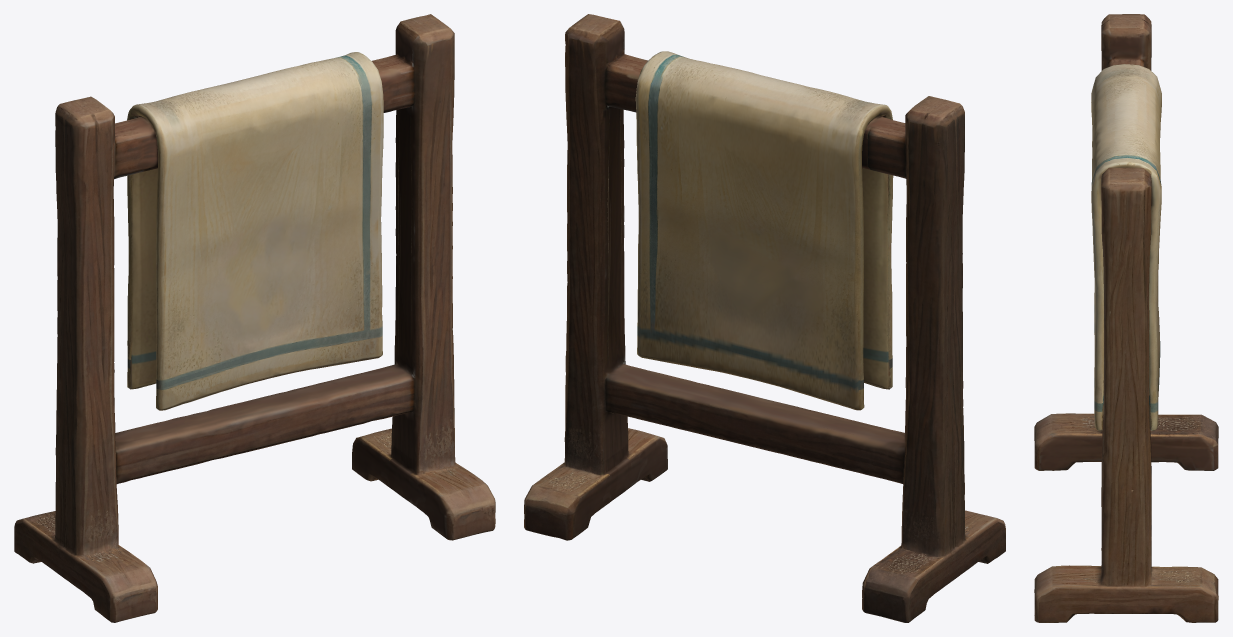
File: Furn_TowelRail.fbx
3 views of the same model, side by side, from view 1: azimuth 30°, elevation 25°; view 2: azimuth 150°, elevation 25°; view 3: azimuth 270°, elevation 25° (orthographic). The views are drawn at different scales.
Visible parts, largest first — view 1: texture_mapping; view 2: texture_mapping; view 3: texture_mapping.
Part boxes in pixels (x1,y1,x2,y2): texture_mapping: [14, 14, 495, 622]; texture_mapping: [524, 14, 1005, 622]; texture_mapping: [1034, 14, 1218, 622].
Size of the model in its own units: 0.8507 by 0.3806 by 1.
Materials: 1 (1 with a texture image).
